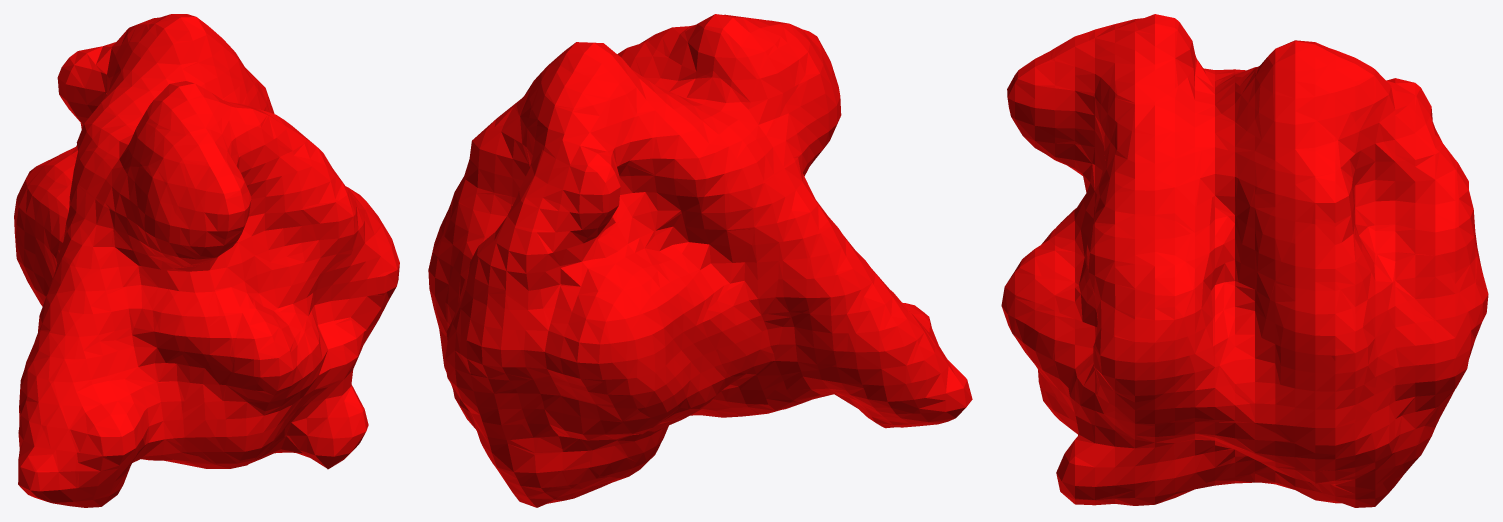
Rendered from nupC_coarse.dae.
3 views of the same model, side by side, from view 1: azimuth 30°, elevation 25°; view 2: azimuth 150°, elevation 25°; view 3: azimuth 270°, elevation 25° (orthographic). The views are drawn at different scales.
Visible parts, largest first — view 1: nupC; view 2: nupC; view 3: nupC.
Boxes of the visible parts, x1,y1,x2,y2 form: nupC: (14, 14, 399, 507); nupC: (428, 14, 972, 507); nupC: (1001, 14, 1488, 507).
Bounding box in the file's own units: 63.31 × 62.5 × 60.82.
